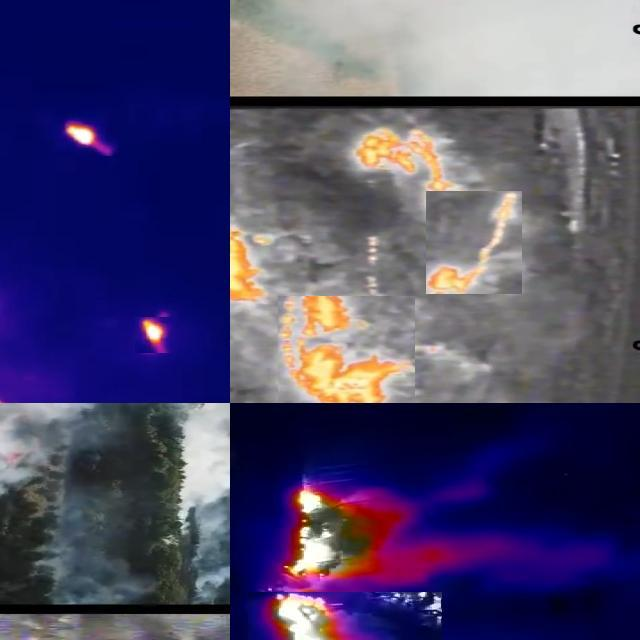fire: (278, 297, 415, 404), (276, 483, 408, 587), (426, 192, 522, 295), (349, 128, 452, 195), (135, 319, 175, 355), (61, 123, 105, 151)
